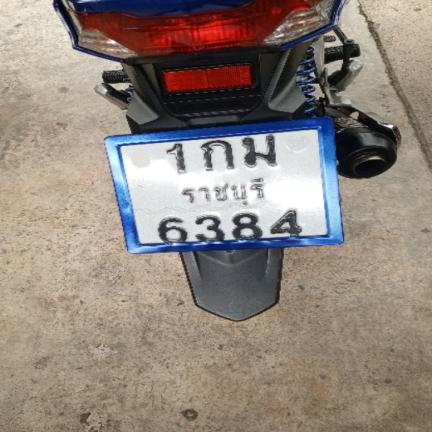1: (161, 141, 191, 174)
3: (193, 214, 227, 243)
4: (267, 207, 305, 238)
6: (154, 215, 191, 245)
8: (229, 211, 264, 239)
A01: (197, 137, 235, 172)
A33: (238, 134, 280, 168)
RBR: (170, 176, 272, 207)
